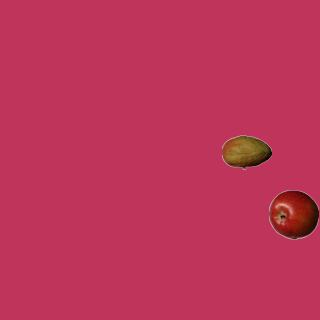Apple Braeburn: (268, 189, 318, 239)
Papaya: (221, 127, 271, 177)
